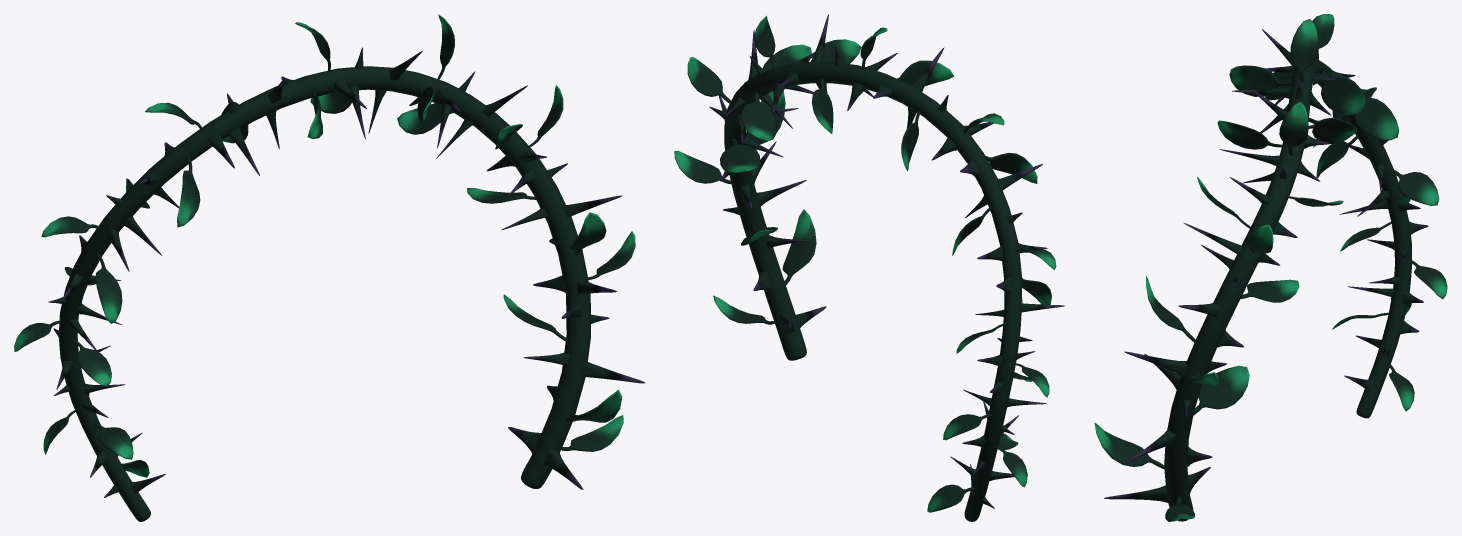
Rendered from Vine_wide.fbx.
The picture shows the model from 3 angles, left to right: view 1: azimuth 30°, elevation 25°; view 2: azimuth 150°, elevation 25°; view 3: azimuth 270°, elevation 25°; orthographic projection. The views are drawn at different scales.
Parts seen in each view (by area): view 1: Vine_wide; view 2: Vine_wide; view 3: Vine_wide.
Boxes of the visible parts, x1=… form: Vine_wide: x1=14, y1=14, x2=645, y2=521; Vine_wide: x1=674, y1=14, x2=1065, y2=521; Vine_wide: x1=1094, y1=14, x2=1447, y2=521.
Size of the model in its own units: 111 by 101 by 70.84.
1 material, 1 textured.
